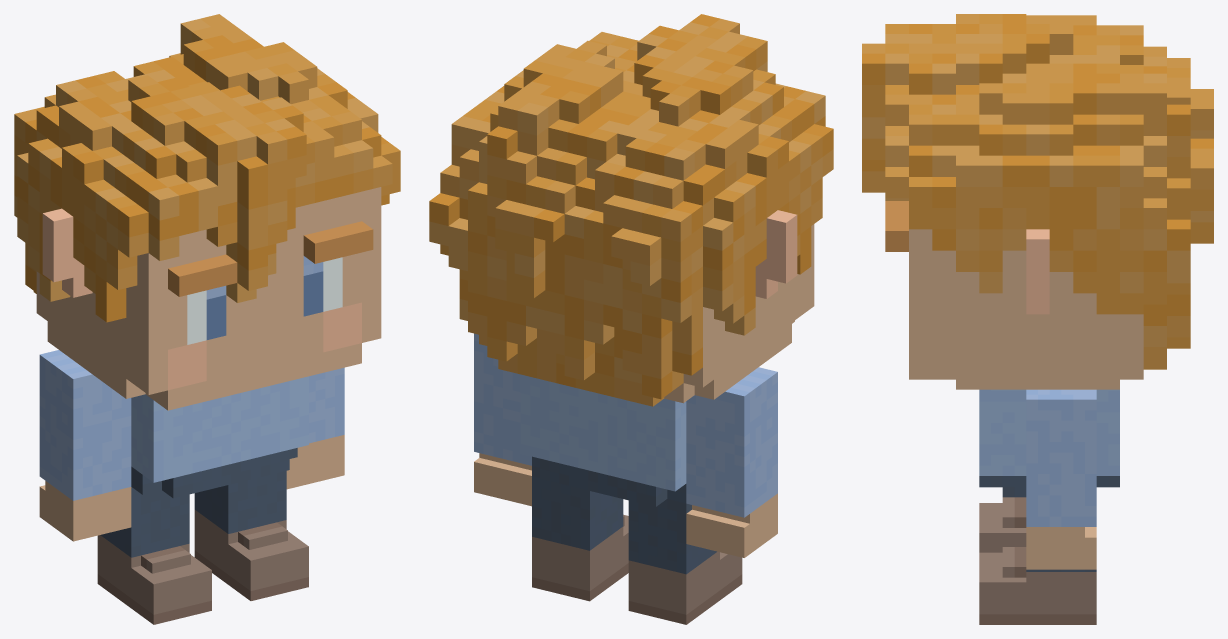
Rendered from everbee_boy.fbx.
3 renders of one model, left to right at view 1: azimuth 30°, elevation 25°; view 2: azimuth 150°, elevation 25°; view 3: azimuth 270°, elevation 25°, orthographic. The views are drawn at different scales.
Visible parts, largest first — view 1: ObjObject.005, ObjObject, ObjObject.001, ObjObject.003, ObjObject.004, ObjObject.002; view 2: ObjObject.005, ObjObject, ObjObject.001, ObjObject.003, ObjObject.004, ObjObject.002; view 3: ObjObject.005, ObjObject.002, ObjObject.003, ObjObject, ObjObject.004.
Part boxes in pixels (x1,y1,x2,y2): ObjObject.005: [14, 14, 400, 410]; ObjObject: [131, 376, 308, 498]; ObjObject.001: [39, 350, 131, 541]; ObjObject.003: [194, 471, 308, 600]; ObjObject.004: [97, 487, 211, 624]; ObjObject.002: [286, 367, 344, 489]; ObjObject.005: [429, 14, 833, 406]; ObjObject: [520, 374, 686, 506]; ObjObject.001: [686, 367, 777, 557]; ObjObject.003: [532, 466, 628, 601]; ObjObject.004: [628, 499, 742, 624]; ObjObject.002: [474, 333, 531, 506]; ObjObject.005: [862, 14, 1213, 389]; ObjObject.002: [1026, 389, 1096, 569]; ObjObject.003: [979, 547, 1096, 624]; ObjObject: [979, 389, 1119, 497]; ObjObject.004: [979, 497, 1026, 552].
Size of the model in its own units: 192 by 300 by 180.
